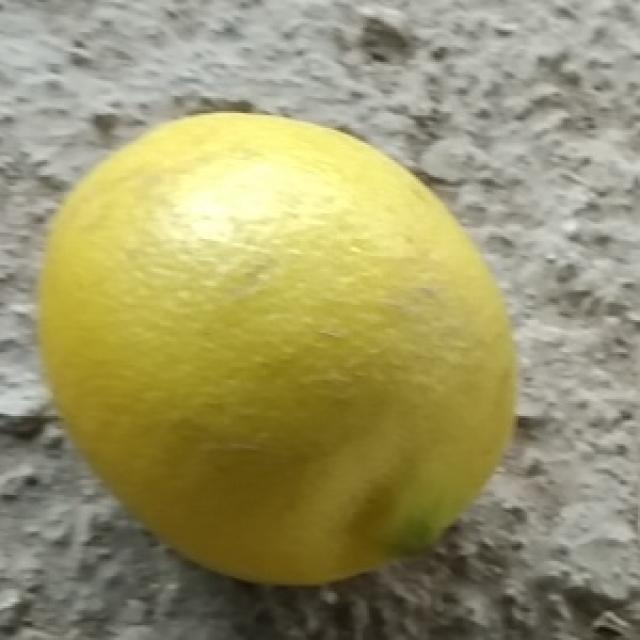Ripe: (32, 105, 524, 592)
